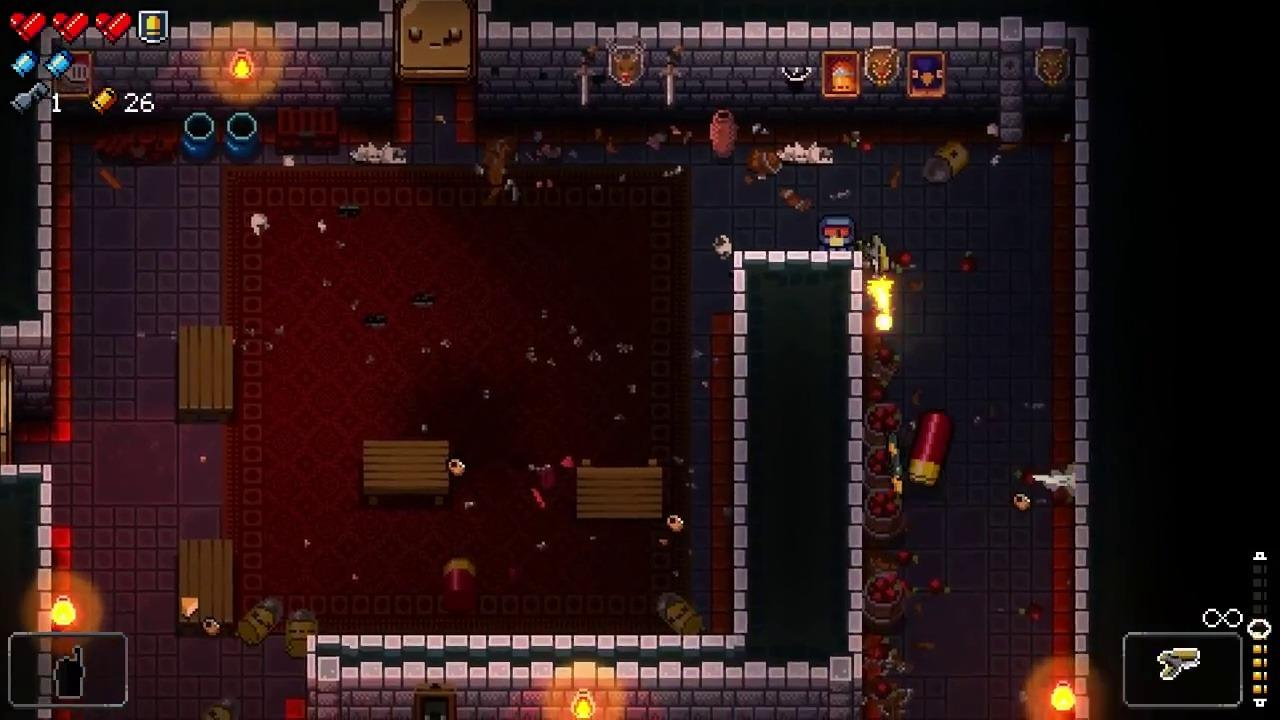bullet_kin: (232, 594, 282, 648), (285, 606, 318, 662)
dead_bullet_kin: (656, 591, 706, 636), (921, 137, 969, 183)
dead_red_shotgun_kin: (443, 558, 478, 614)
locked_door: (393, 0, 479, 86)
player: (817, 214, 855, 252)
red_shotgun_kin: (907, 410, 953, 485)
table: (364, 440, 449, 508), (179, 540, 235, 636), (178, 326, 233, 423), (576, 459, 662, 519)
